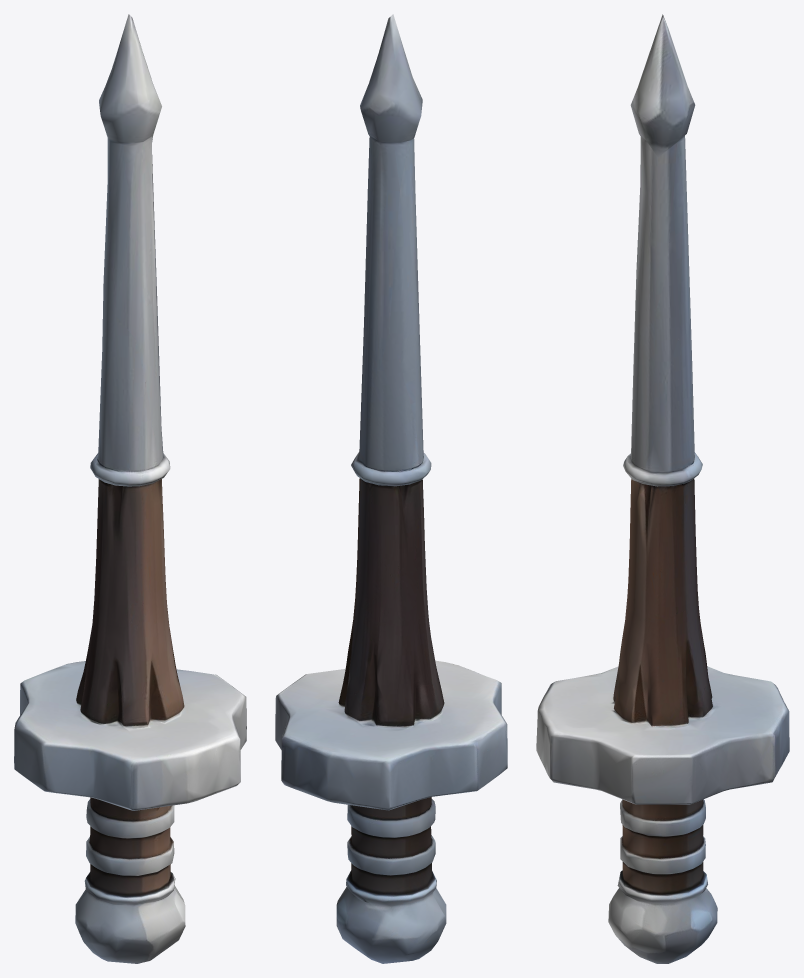
File: w_iron--wand.glb
3 views of the same model, side by side, from view 1: azimuth 30°, elevation 25°; view 2: azimuth 150°, elevation 25°; view 3: azimuth 270°, elevation 25° (orthographic).
Visible parts, largest first — view 1: Weapon; view 2: Weapon; view 3: Weapon.
Boxes of the visible parts, bbox=[...] form: Weapon: bbox=[14, 14, 246, 963]; Weapon: bbox=[275, 14, 507, 963]; Weapon: bbox=[536, 14, 789, 963].
Size of the model in its own units: 0.2216 by 0.9858 by 0.2393.
1 material, 1 textured.
